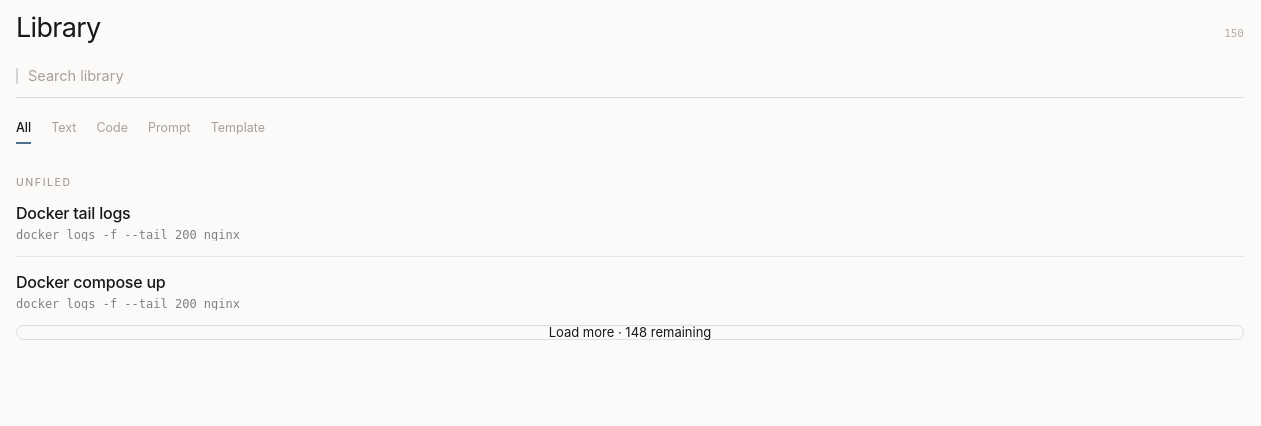
Scenario: mobile LibraryPage › loads the next page on demand when more rows exist
Check: the text "Docker tail logs" is shown, box [16,203,130,223]
Click the button "Load more · 148 remaining" at coordinates (630, 333), box [16,325,1244,340]
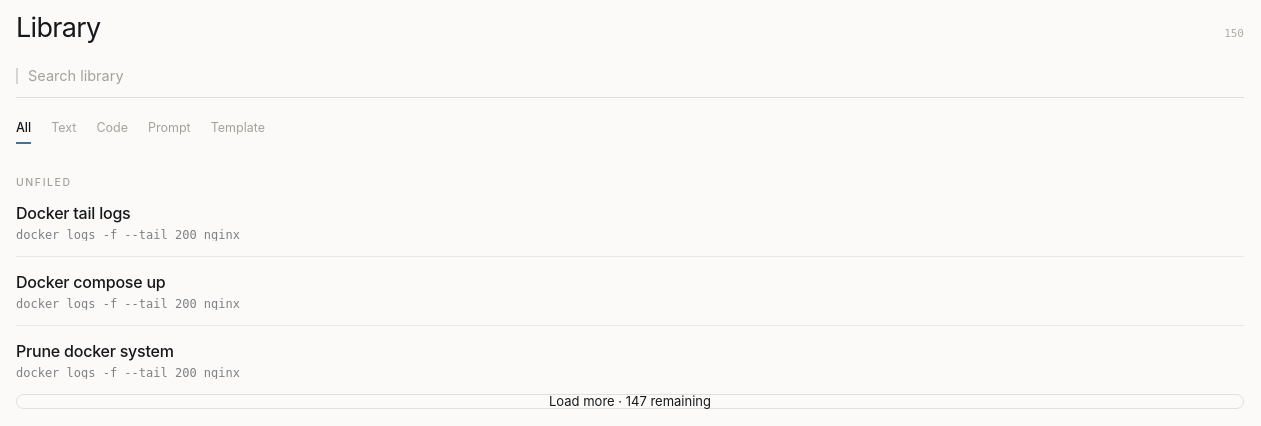
Check: the text "Prune docker system" is shown, box [16,341,174,361]
